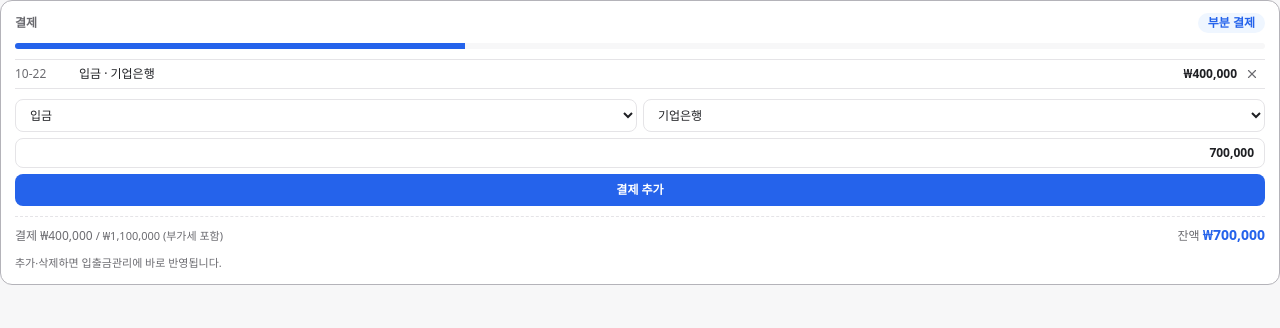
Test: 결제 내역 박스 › 잔액보다 큰 금액은 서버에 보내지 않고 안내한다
Replace the text in the field named "결제 금액" with "700001" at [640, 153], box left=15, top=138, right=1265, bottom=168
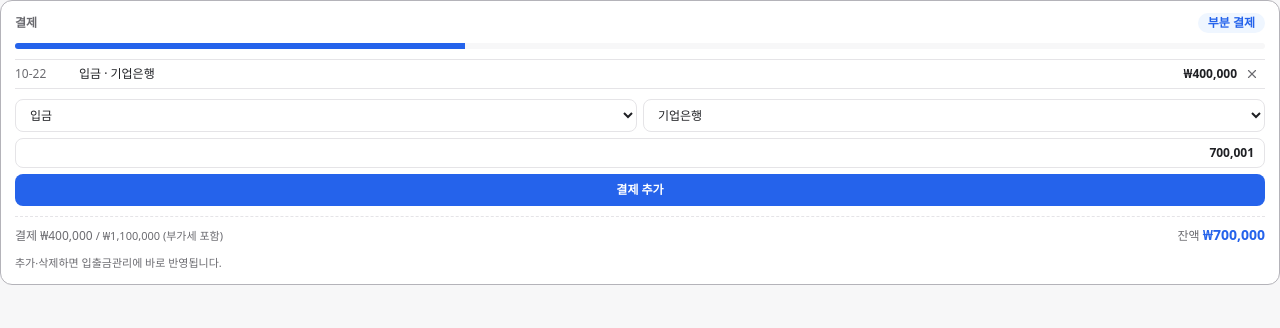
Click the button "결제 추가" at [640, 190], box left=15, top=174, right=1265, bottom=206
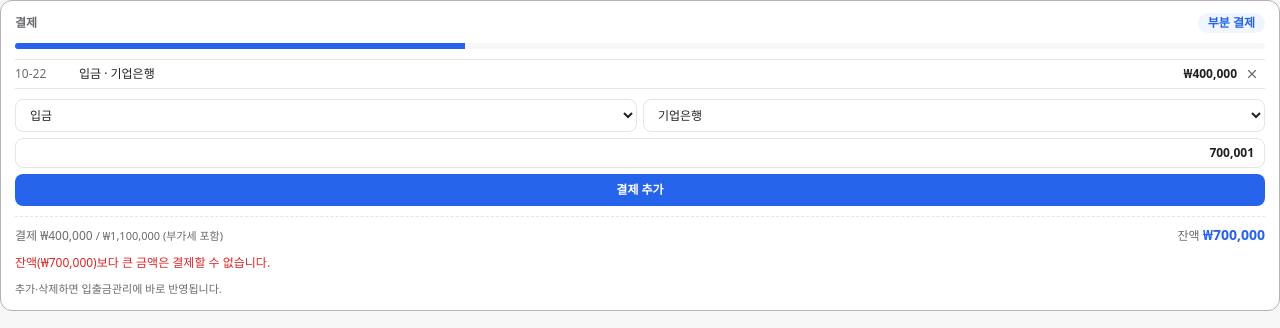
Expected: the message shows "잔액", left=15, top=254, right=270, bottom=271
